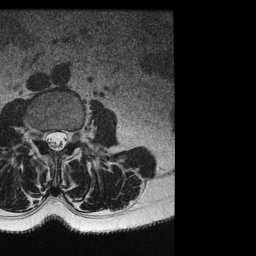CCS_normal: (52, 124, 60, 155)
LFS_normal: (68, 125, 77, 149)
LLS_normal: (60, 125, 67, 153)
RFS_normal: (37, 122, 45, 150)
RLS_normal: (45, 124, 52, 151)
